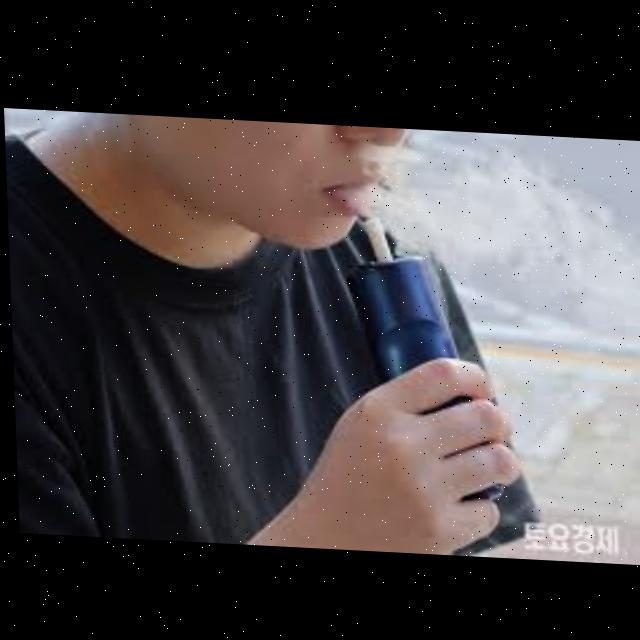vape: (340, 213, 502, 500)
